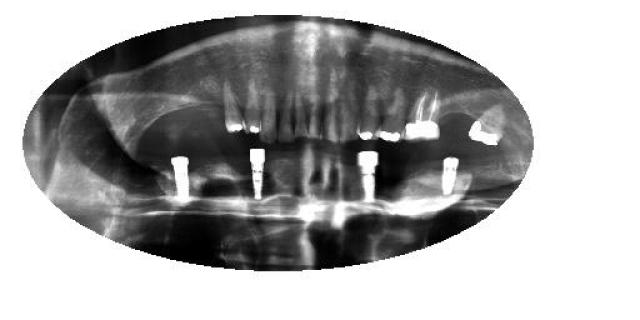Fillings: (466, 104, 506, 146), (379, 91, 406, 142), (222, 85, 246, 134), (358, 88, 378, 142), (246, 82, 262, 136)
Implant: (402, 91, 442, 142), (356, 150, 379, 204), (169, 155, 191, 205), (249, 148, 265, 200), (440, 158, 460, 198)
